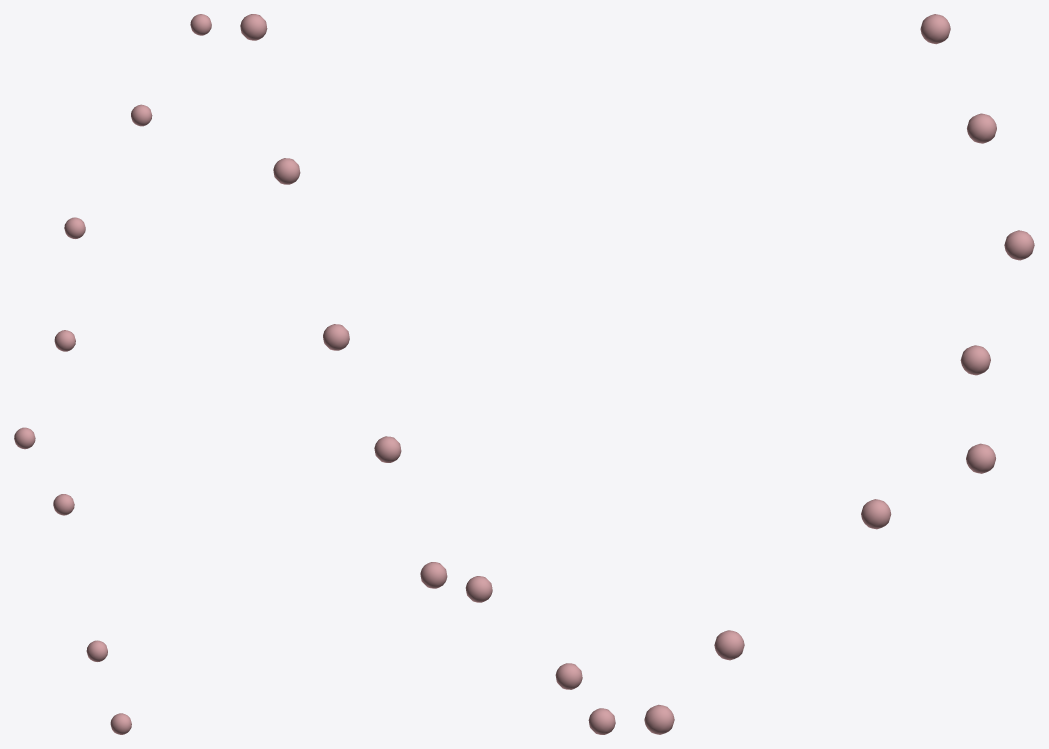
3 renders of one model, left to right at view 1: azimuth 30°, elevation 25°; view 2: azimuth 150°, elevation 25°; view 3: azimuth 270°, elevation 25°, orthographic. The views are drawn at different scales.
Visible parts, largest first — view 1: ZA_775569588a00b3c8; view 2: ZA_775569588a00b3c8; view 3: ZA_775569588a00b3c8.
Boxes of the visible parts, x1,y1,x2,y2 form: ZA_775569588a00b3c8: (14,14,211,734); ZA_775569588a00b3c8: (240,14,615,734); ZA_775569588a00b3c8: (644,14,1034,734).
Bounding box in the file's own units: 0.0272 × 0.0794 × 0.0335.
